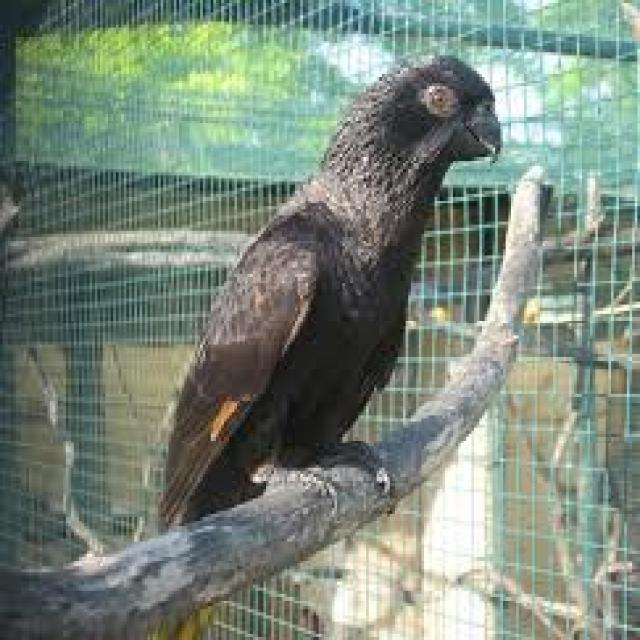Nuri Hitam: (122, 39, 510, 640)
